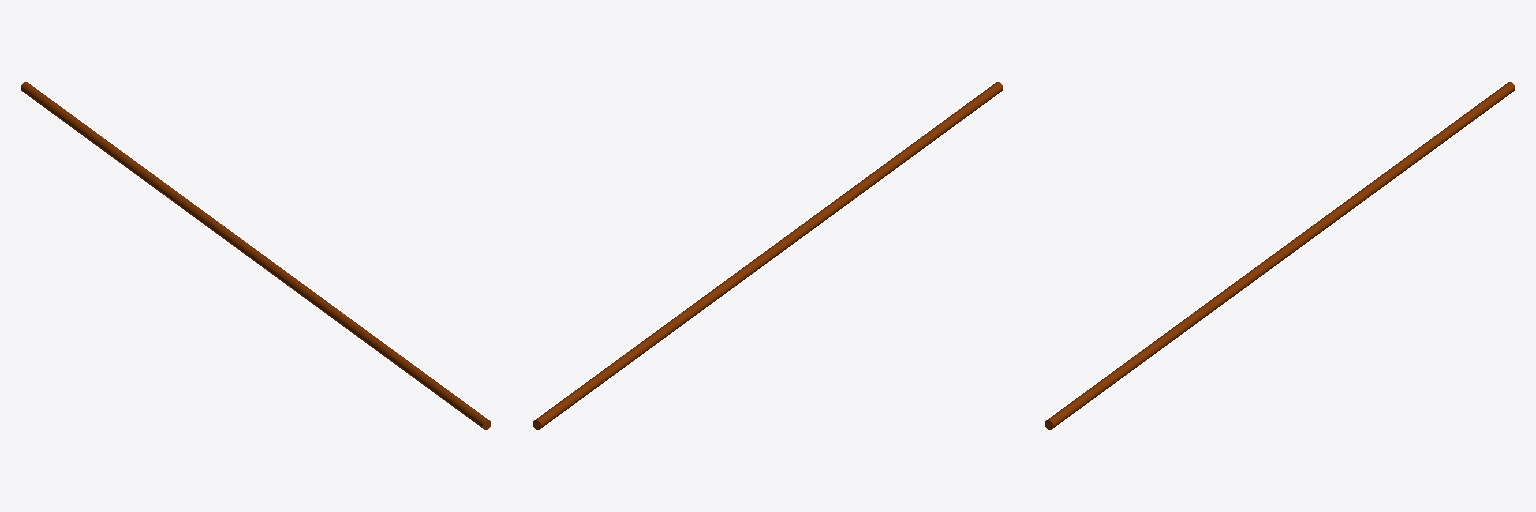
robot.urdf — cylinder:
<?xml version="1.0" ?>
<!-- =================================================================================== -->
<!-- |    This document was autogenerated by xacro from cylinder.xacro                 | -->
<!-- |    EDITING THIS FILE BY HAND IS NOT RECOMMENDED                                 | -->
<!-- =================================================================================== -->
<robot name="cylinder">
  <link name="world"/>
  <link name="base">
    <visual>
      <origin rpy="1.57079633 0 0" xyz="0 0 0"/>
      <geometry>
        <cylinder length="7.07106781185" radius="0.04"/>
      </geometry>
      <material name="cylinder_material">
        <color rgba="0.545 0.271 0.075 1.0"/>
        <texture filename="../textures/tree_bark.jpg"/>
      </material>
    </visual>
    <collision>
      <origin rpy="1.57079633 0 0" xyz="0 0 0"/>
      <geometry>
        <cylinder length="7.07106781185" radius="0.04"/>
      </geometry>
    </collision>
    <inertial>
      <origin rpy="0 0 0" xyz="0 0 0"/>
      <mass value="1"/>
      <inertia ixx="4.167066666648429" ixy="0.0" ixz="0.0" iyy="4.167066666648429" iyz="0.0" izz="24.999999999890573"/>
    </inertial>
  </link>
  <joint name="base_joint" type="fixed">
    <parent link="world"/>
    <child link="base"/>
    <origin rpy="0 0 0" xyz="0.0 0.0 0.0"/>
  </joint>
</robot>

--- Facts derived from the render (not from the file) ---
The picture shows the robot from 3 angles, left to right: view 1: azimuth 30°, elevation 25°; view 2: azimuth 150°, elevation 25°; view 3: azimuth 330°, elevation 25°; orthographic projection.
Model cylinder with 2 links and 1 joints (1 fixed), rooted at world, posed all joints at 0.
Visible links, largest first — view 1: base; view 2: base; view 3: base.
Boxes of the visible links, <box> form: base: <box>21,82,490,429</box>; base: <box>533,82,1002,429</box>; base: <box>1045,82,1514,429</box>.
Size in the robot's own frame: 0.08 by 7.07 by 0.08 metres.
Geometry: primitives only (box / cylinder / sphere), no mesh files.
